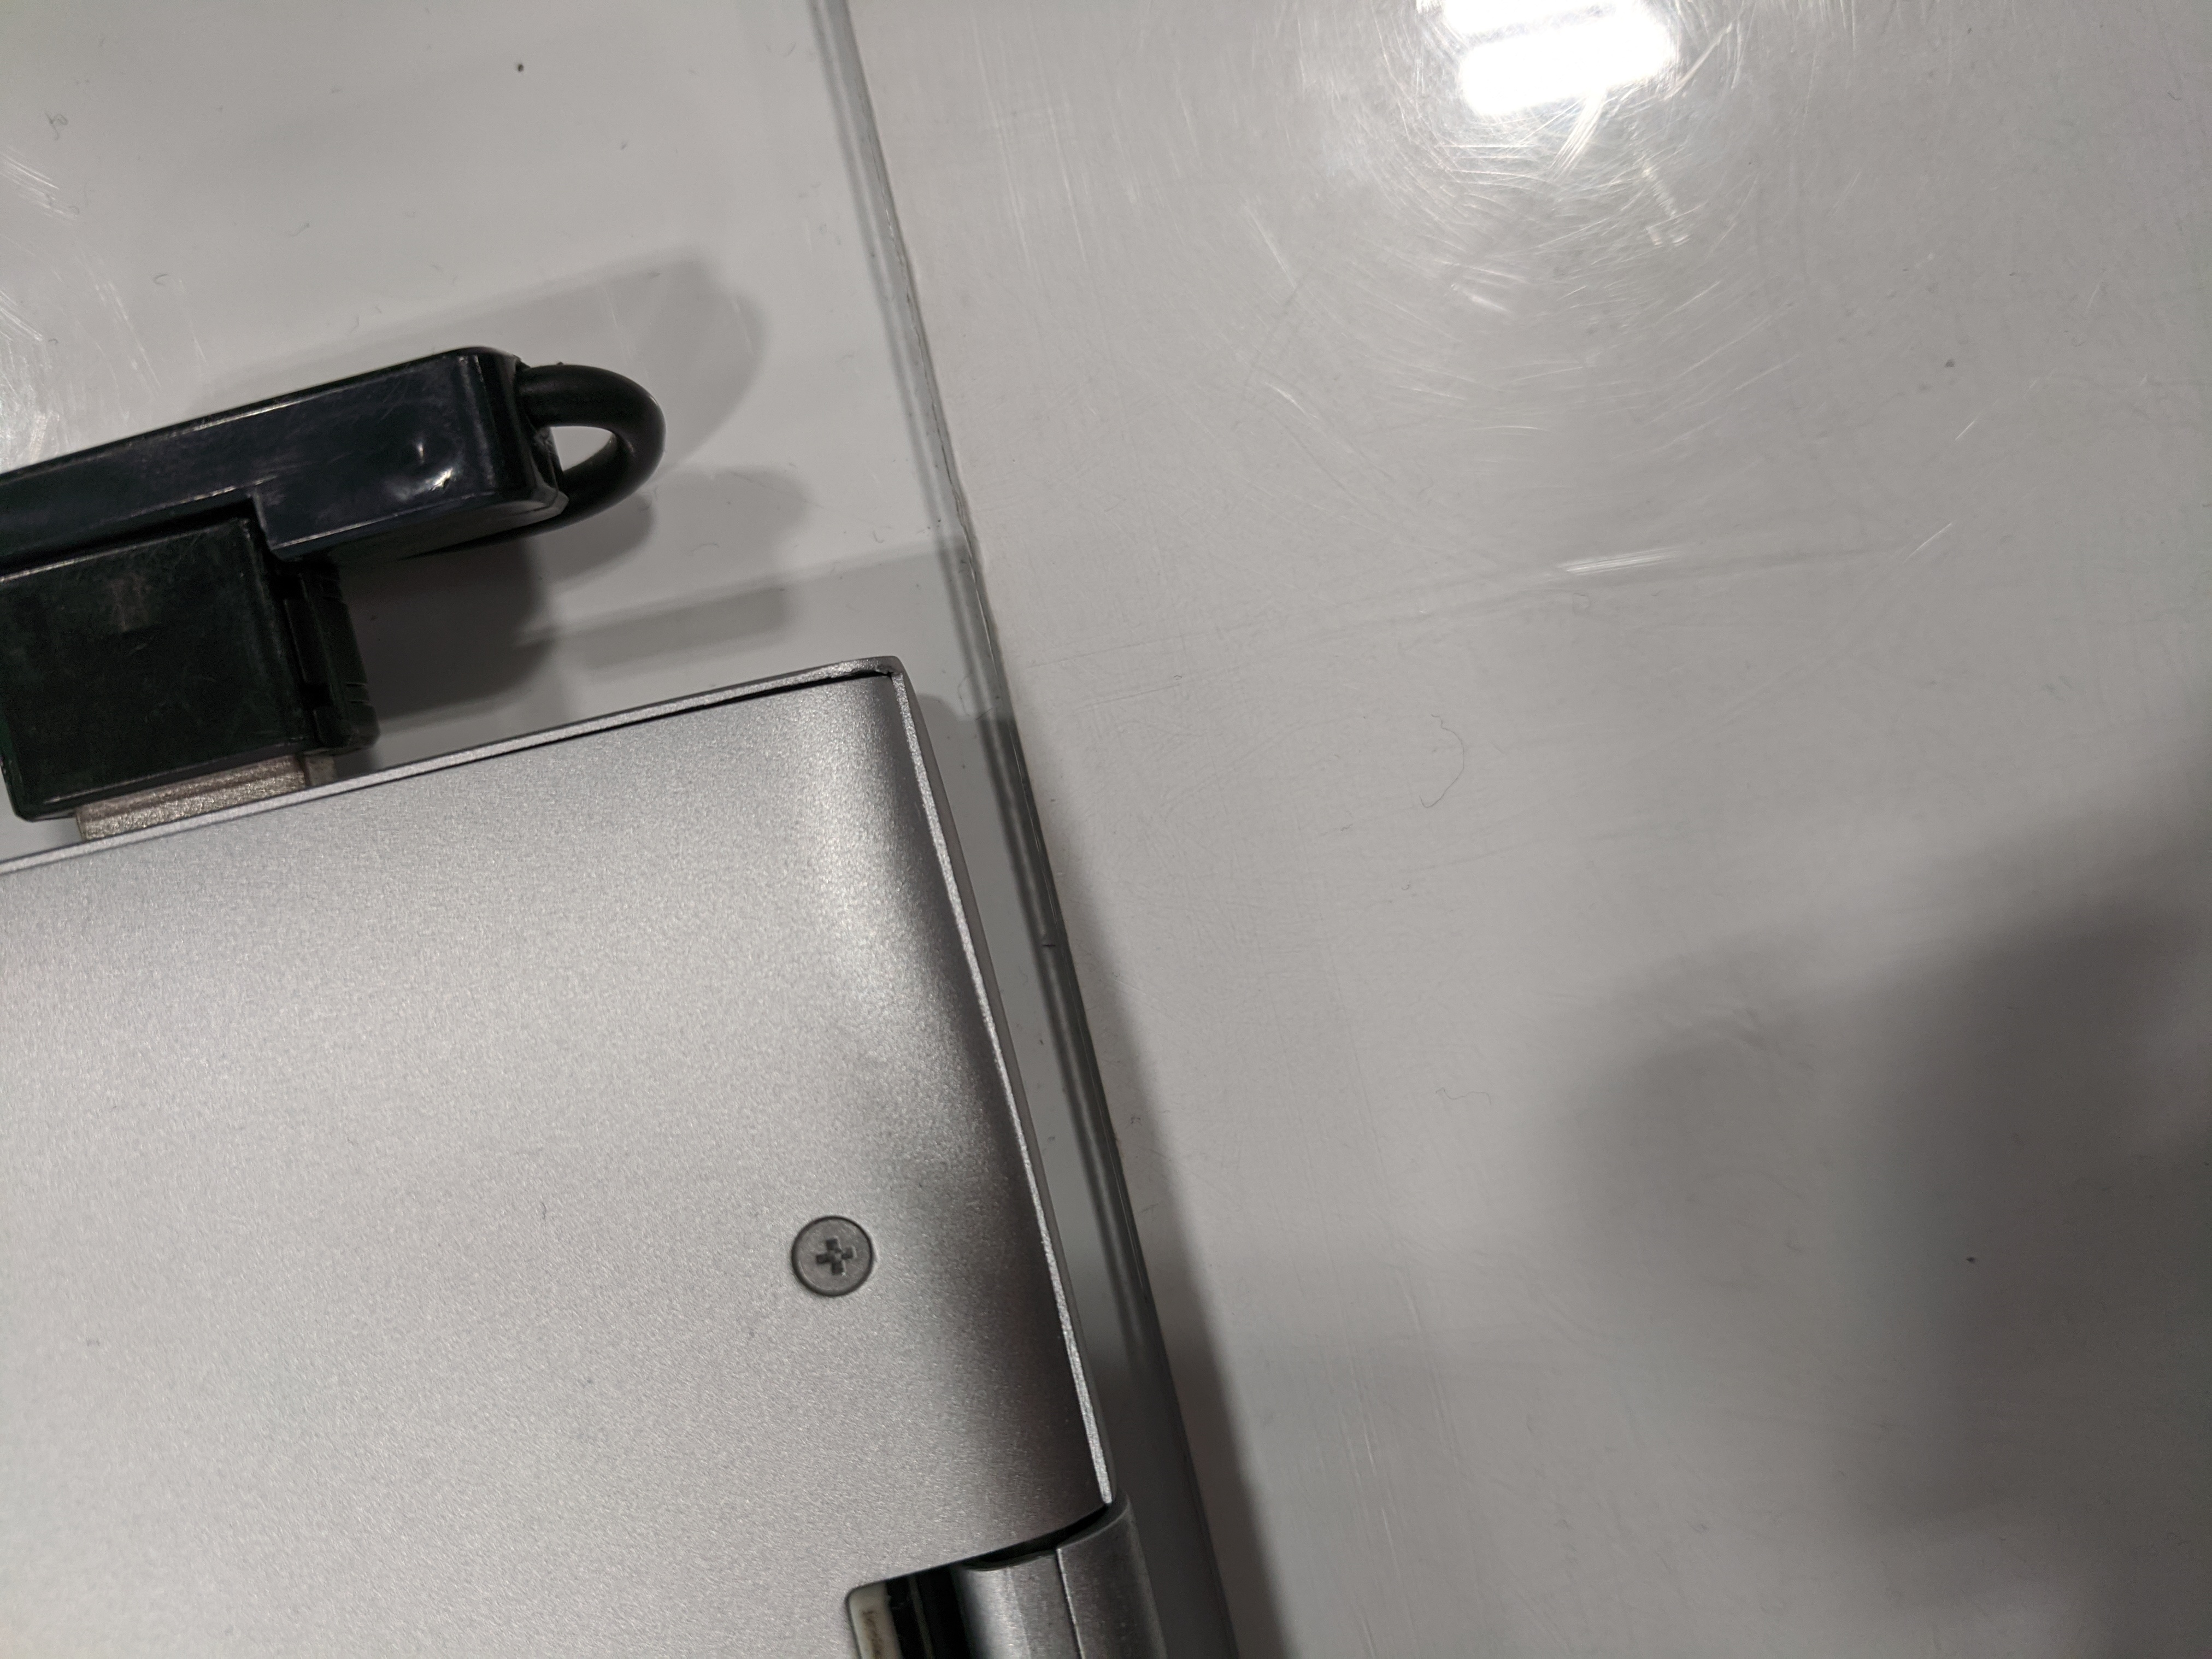cross_recessed_screw: (775, 1211, 888, 1300)
